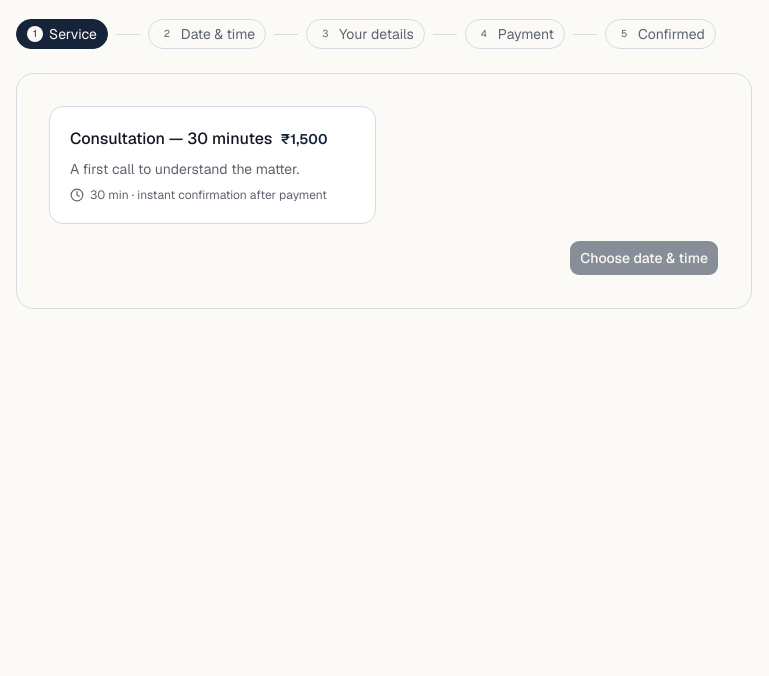
Test: assembled booking wizard, keyboard only › keeps forward steps disabled until the current step is valid
What coordinates should you click on to do the following:
click the button "Consultation — 30 minutes"
I would click on:
 (212, 165)
Its box is x1=49 y1=106 x2=376 y2=224.
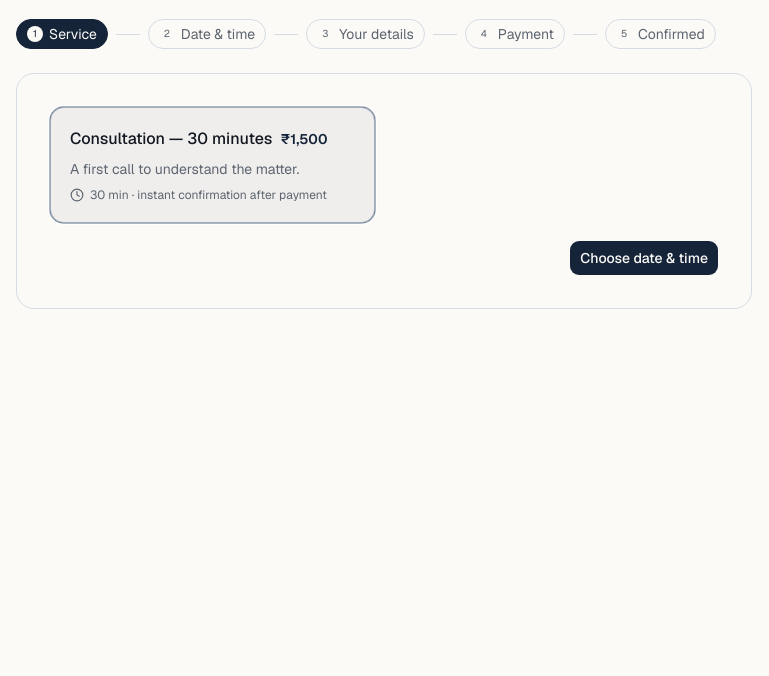
Expected: the button "Choose date & time" is enabled
What coordinates should you click on to do the following:
click the button "Choose date & time"
I would click on:
 (644, 258)
Its box is x1=569 y1=240 x2=719 y2=276.
(page scrolled)
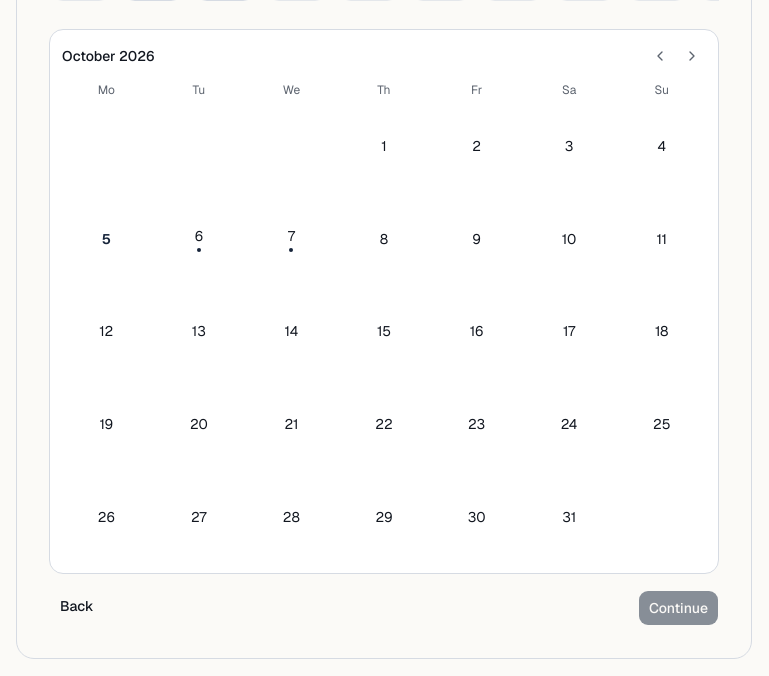
Expected: the button "Continue" is disabled, x1=638 y1=590 x2=719 y2=626
